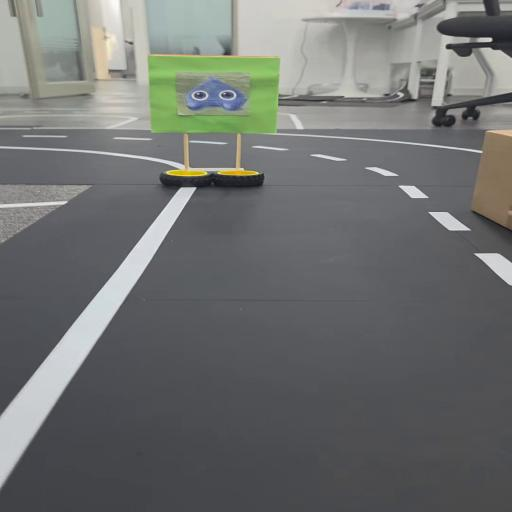Sign_B: (139, 48, 294, 196)
